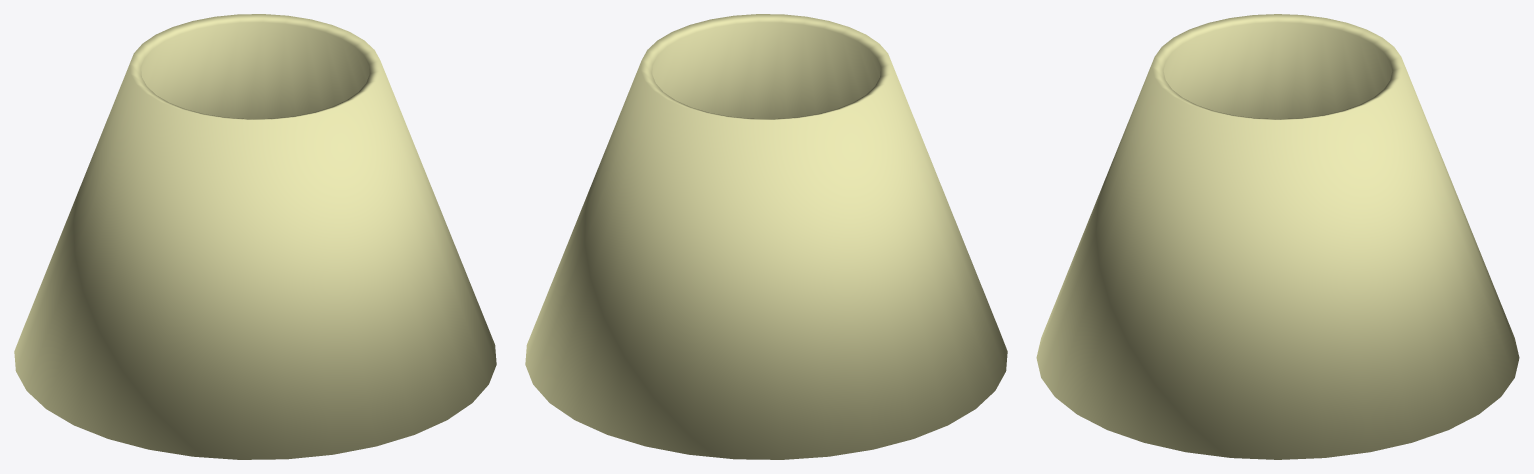
Rendered from lampshade.glb.
3 renders of one model, left to right at view 1: azimuth 30°, elevation 25°; view 2: azimuth 150°, elevation 25°; view 3: azimuth 270°, elevation 25°, orthographic.
Visible parts, largest first — view 1: Cylinder; view 2: Cylinder; view 3: Cylinder.
Boxes of the visible parts, bbox=[...] form: Cylinder: bbox=[14, 14, 496, 459]; Cylinder: bbox=[525, 14, 1007, 459]; Cylinder: bbox=[1036, 14, 1519, 459].
Bounding box in the file's own units: 0.6186 × 0.4161 × 0.6186.
